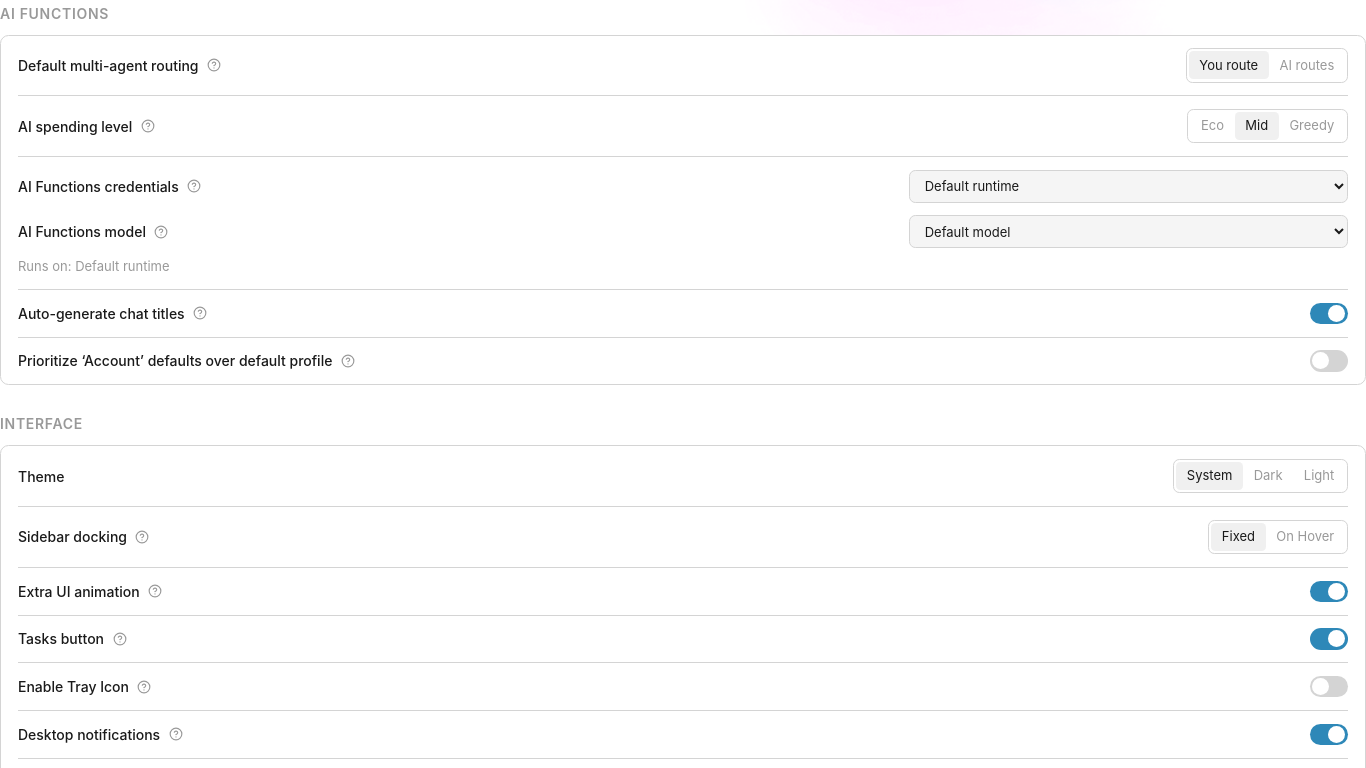
FeaturesSettingsSection › is two titled sections of one-line rows, with the descriptions behind the tips
Expected: the heading "AI Functions" is shown, [0,2,109,24]
Expected: the heading "Interface" is shown, [0,413,83,434]
What coordinates should you click on to do the following:
click the button named "About Auto-generate chat titles"
I would click on:
 (200, 313)
Its box is [191,304,209,322].
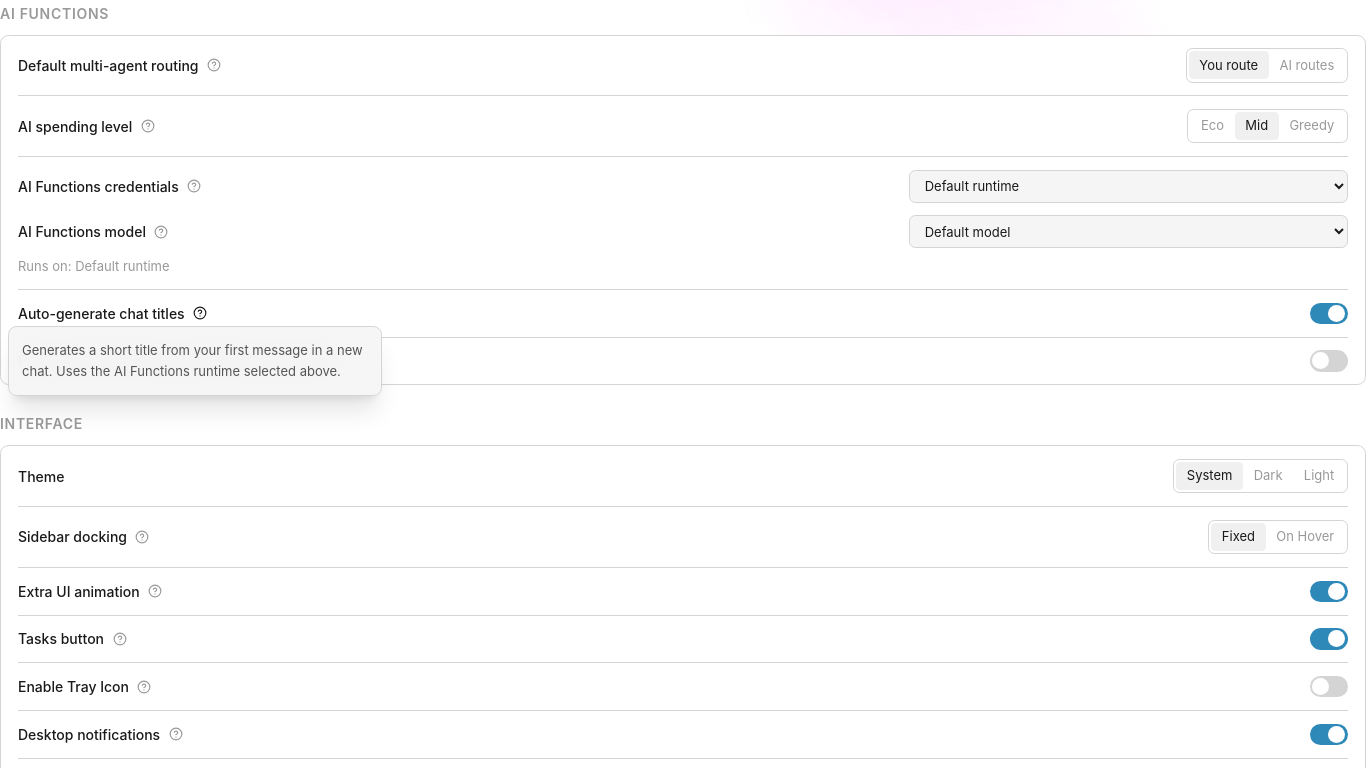
Expected: the text "Generates a short title from your first message" is shown, [22,342,363,379]
